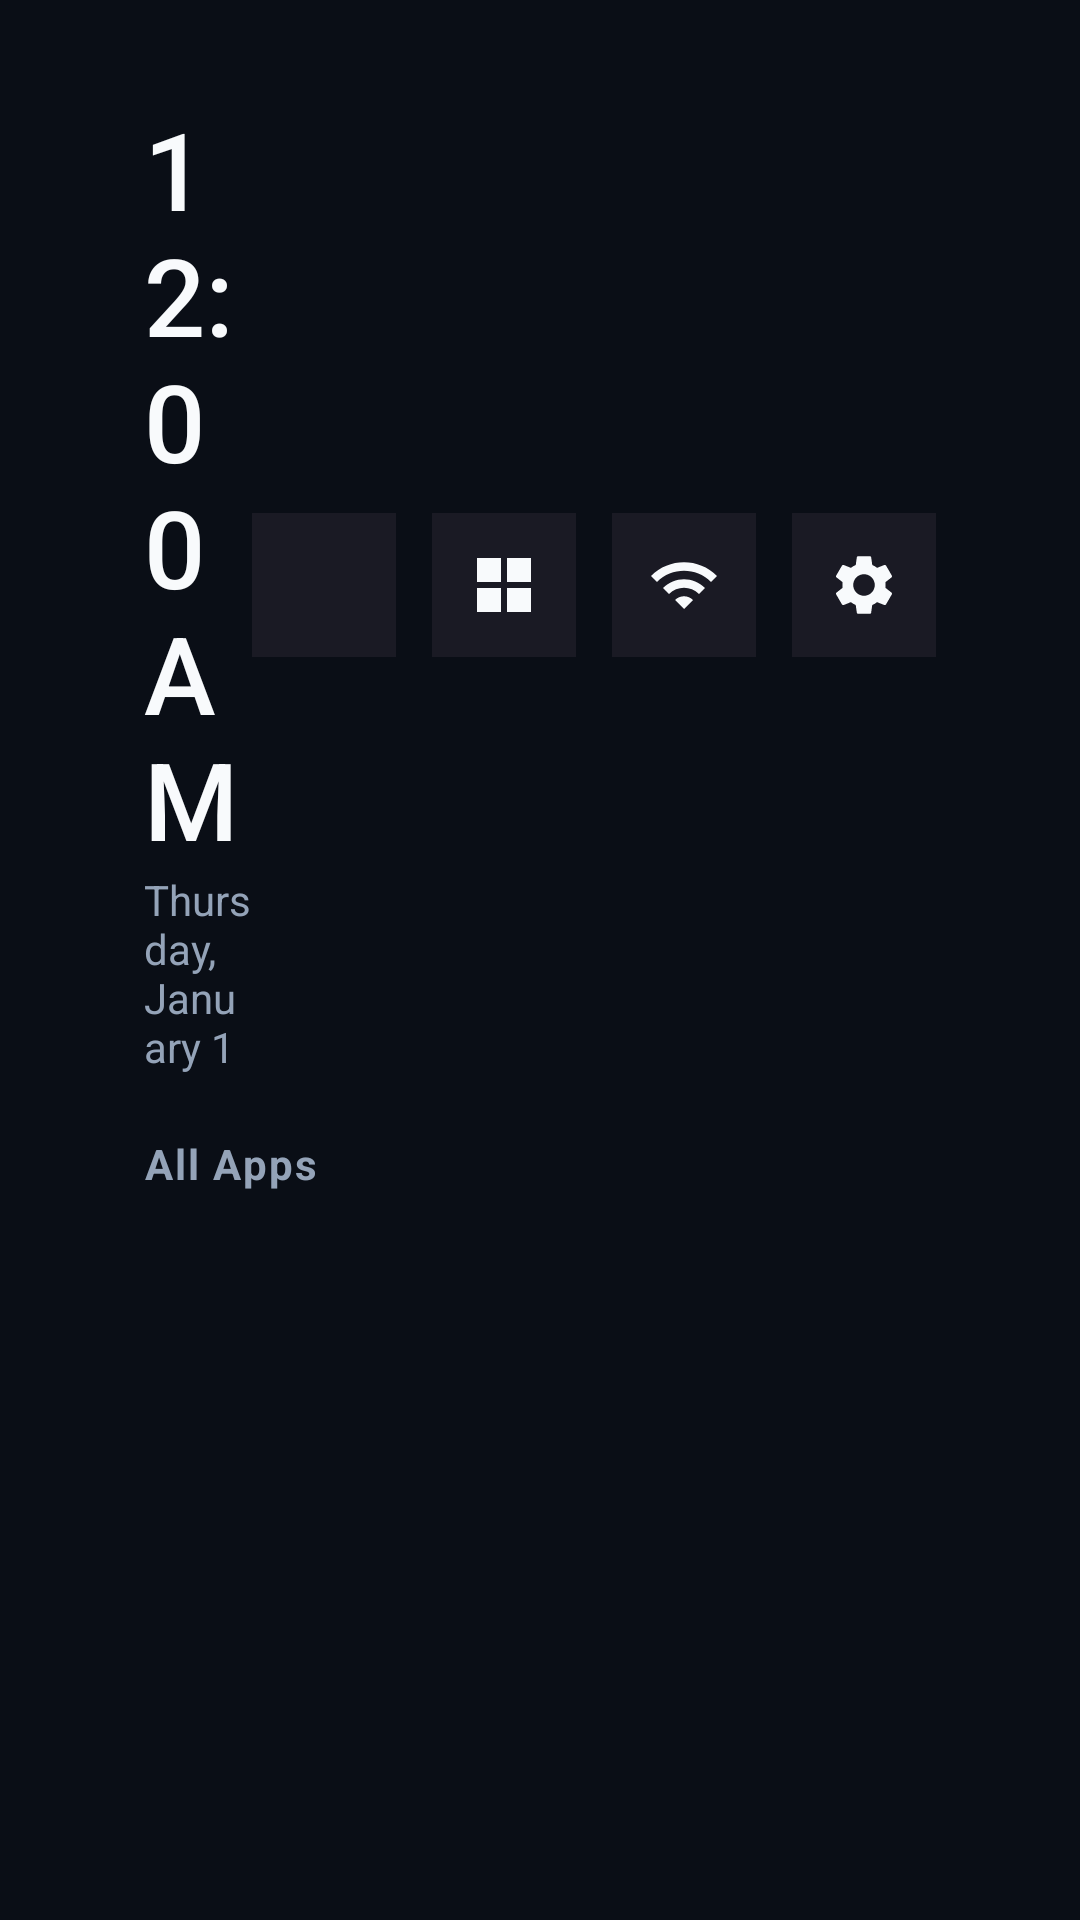

Where icons sit on this 1080*1920 app screen, as [x1,y1,x2,y2]:
grid: [477,558,531,612]
settings: [836,556,892,614]
wifi: [651,562,717,609]
